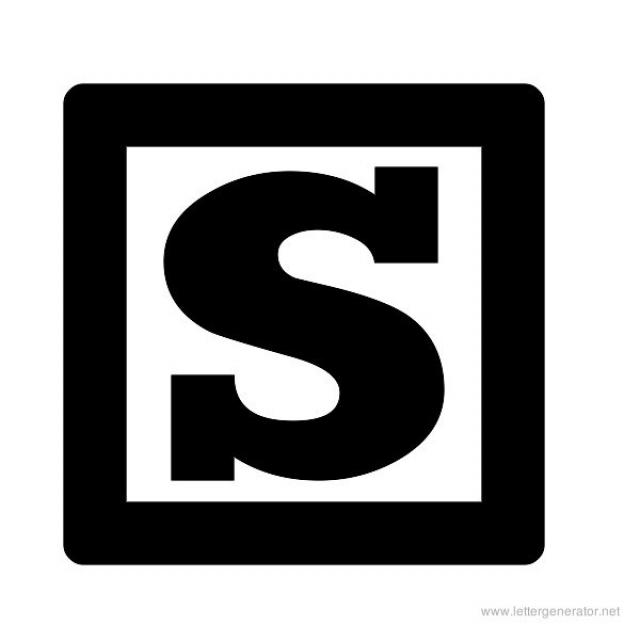S: (138, 156, 481, 491)
